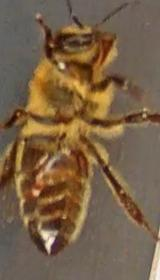varroa_mite: (24, 171, 46, 206)
